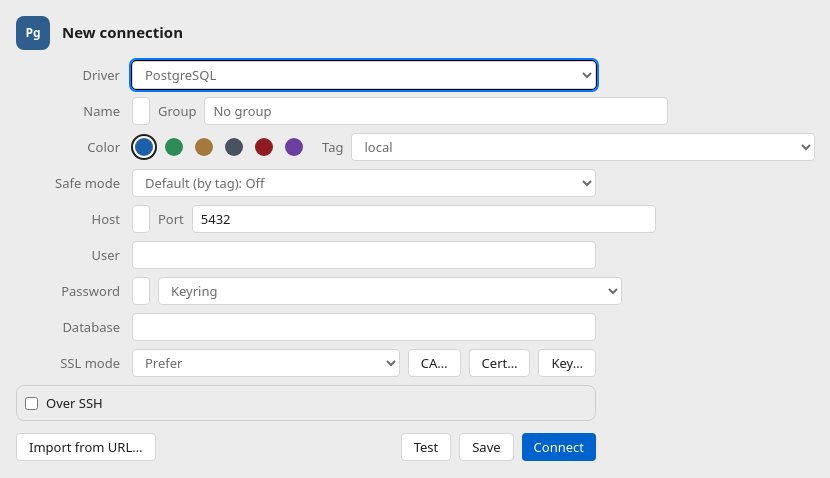
switching driver to MySQL sets default port 3306
The width and height of the screenshot is (830, 478).
Expected: the number field labelled "Port" holds "5432", left=192, top=205, right=656, bottom=233
Select "MySQL" in the dropdown labelled "Driver" at x=364, y=75, box left=132, top=61, right=596, bottom=89
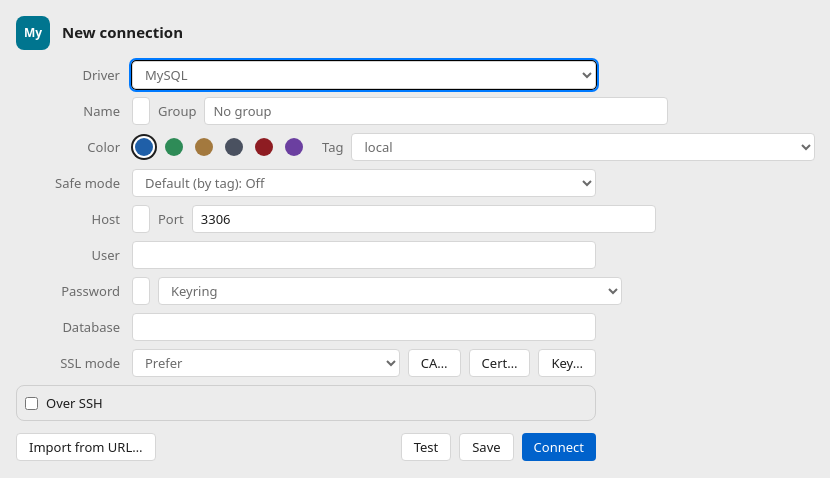
Now the number field labelled "Port" holds "3306", box left=192, top=205, right=656, bottom=233
